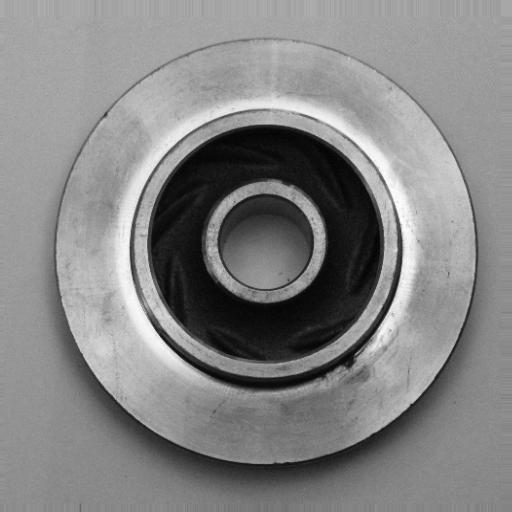crack: (332, 342, 370, 381)
unpolished_casting: (53, 36, 479, 471)
